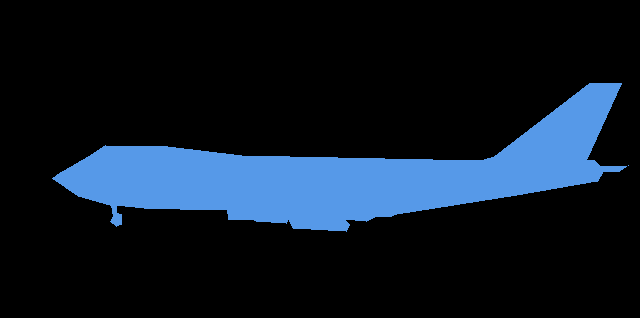Airplane: (52, 83, 628, 231)
